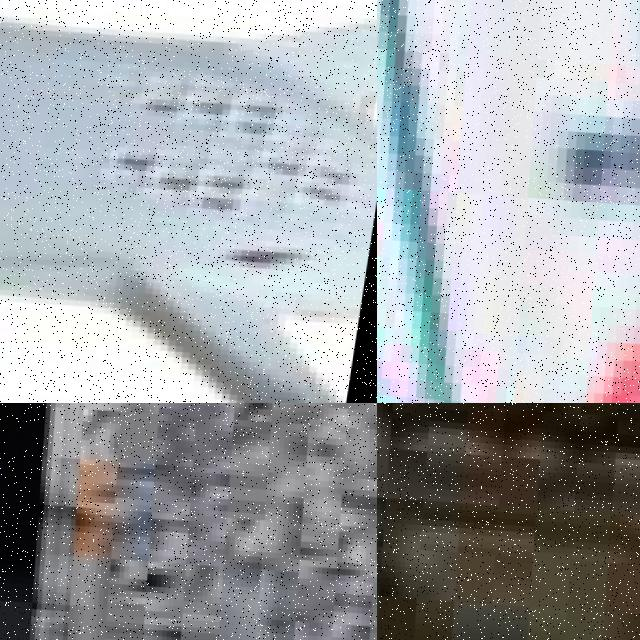drone: (0, 0, 377, 403)
